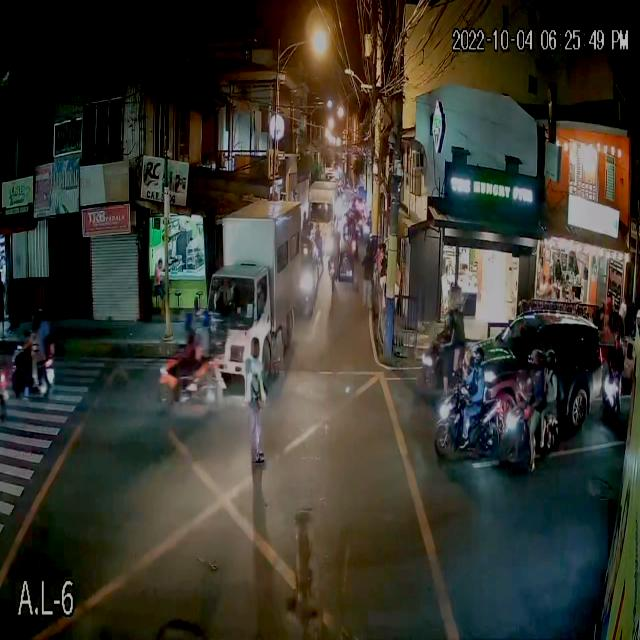Full-Faced: (470, 345, 485, 371), (540, 350, 556, 374), (528, 350, 543, 374)
